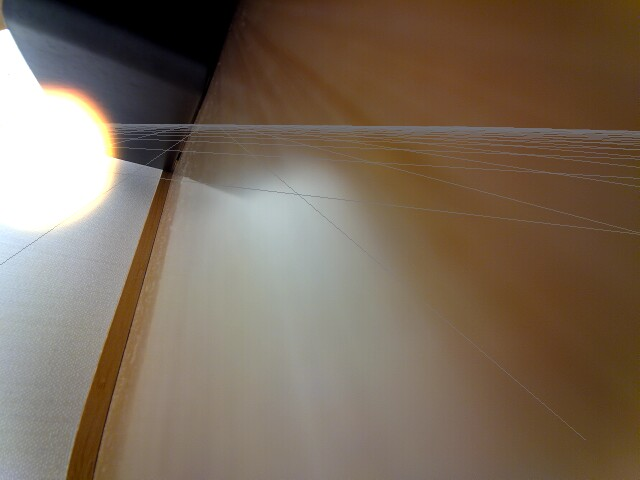firebig: (0, 71, 186, 238)
